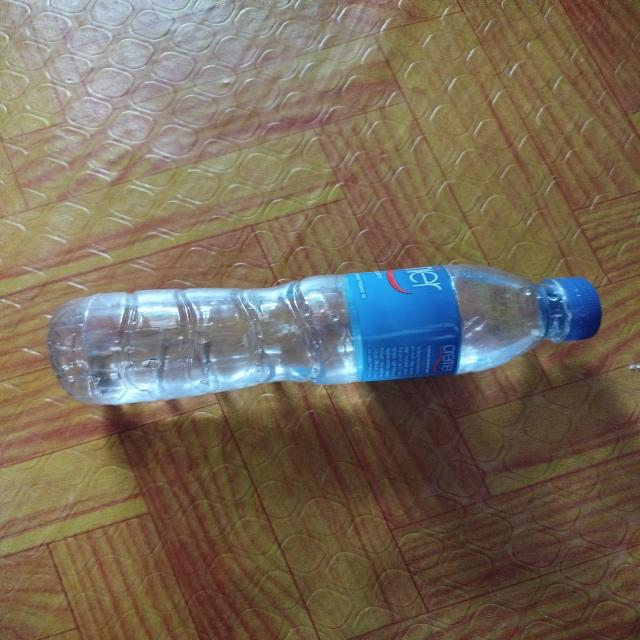plastic: (51, 258, 619, 417)
